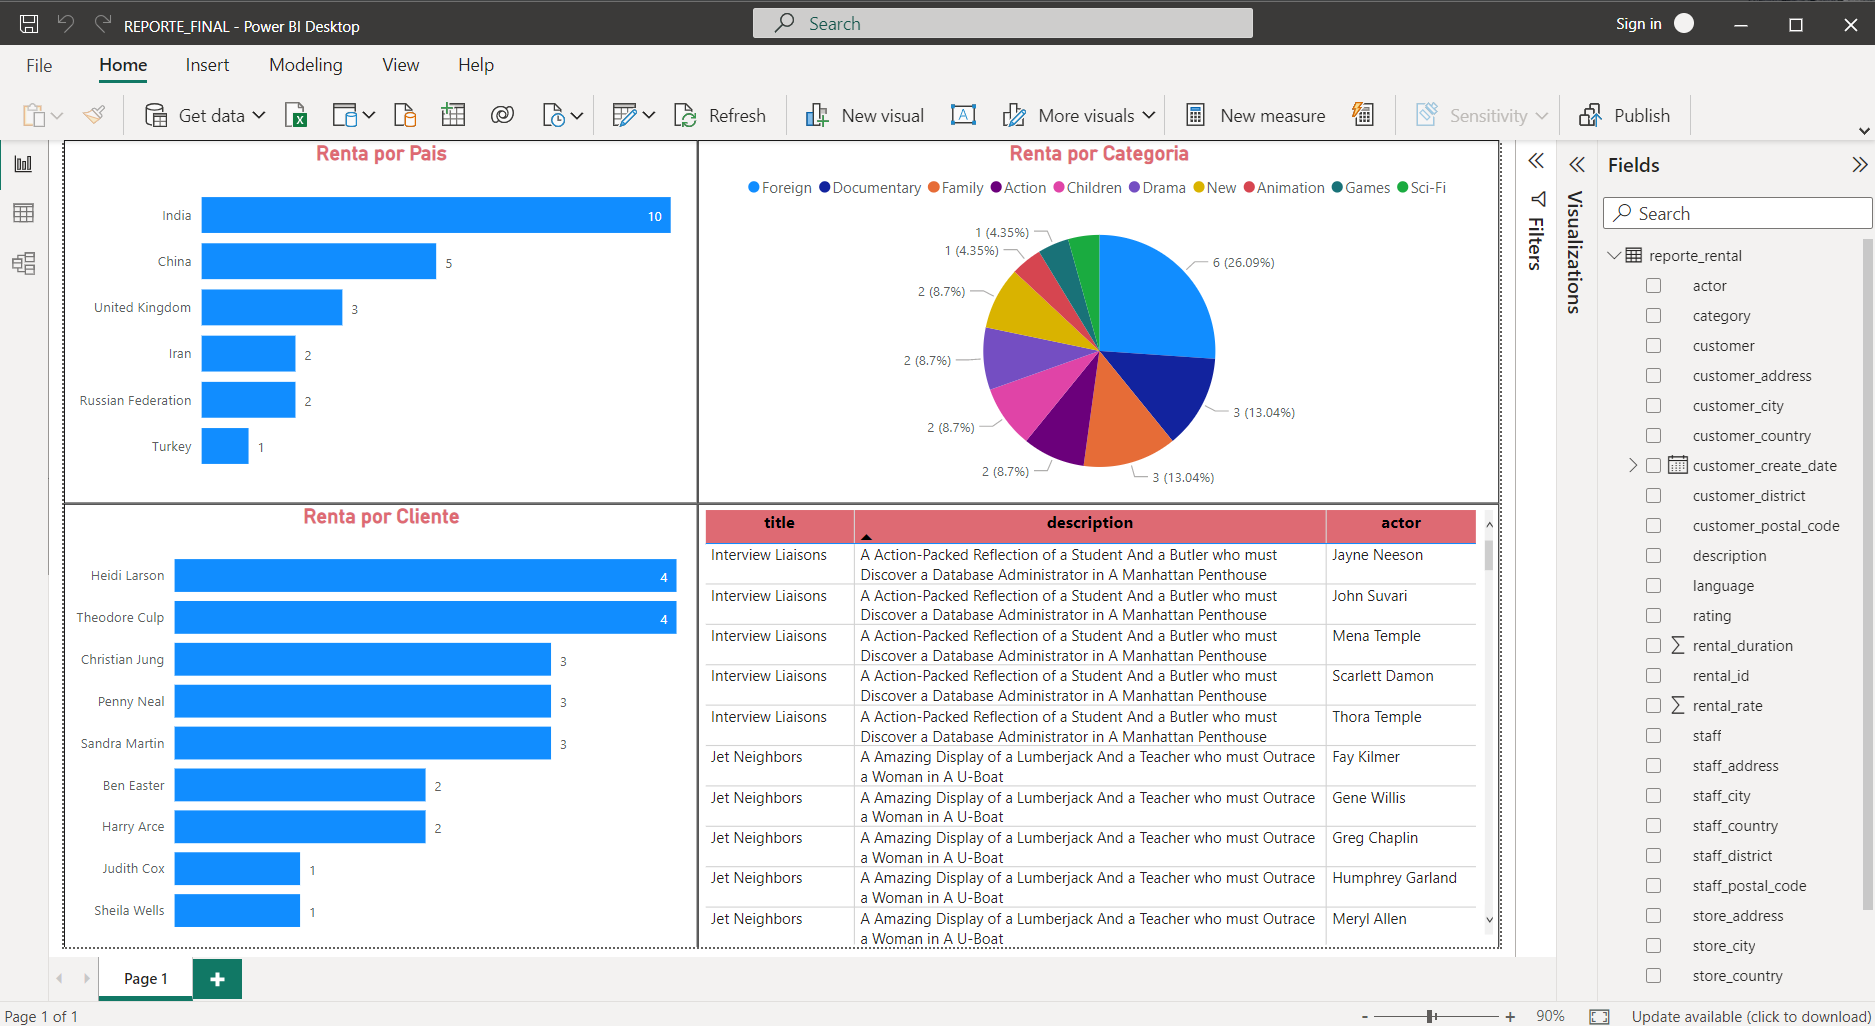

This screenshot's page, from the dashboard's own definition file:
{"tool":"powerbi","page":{"name":"Page 1","canvas":[1280,720],"ordinal":0},"visuals":[{"type":"pieChart","title":"Renta por Categoria","fields":{"Category":["reporte_rental.category"],"Y":["reporte_rental.rental_id"]},"box":[564.8,0,714.7,324],"z":0},{"type":"clusteredBarChart","title":"Renta por Pais","fields":{"Category":["reporte_rental.customer_country"],"Y":["reporte_rental.rental_id"]},"box":[0,0,564.8,324],"z":1000},{"type":"clusteredBarChart","title":"Renta por Cliente","fields":{"Category":["reporte_rental.customer"],"Y":["reporte_rental.title"]},"box":[0,324.1,564.5,397.1],"z":2000},{"type":"tableEx","fields":{"Values":["reporte_rental.title","reporte_rental.description","reporte_rental.actor"]},"box":[564.8,324,714.7,396.7],"z":3000}]}

Visuals, with their boxes on the page's 1280x720 design canvas (x1, y1, x2, y2). These are canvas units, not pixel positions in the 1875x1026 screenshot, which may show the page scaled, cropped or inside an application window:
"Renta por Categoria" pieChart: rect(565, 0, 1280, 324)
"Renta por Pais" clusteredBarChart: rect(0, 0, 565, 324)
"Renta por Cliente" clusteredBarChart: rect(0, 324, 564, 721)
tableEx - reporte_rental.title x reporte_rental.description: rect(565, 324, 1280, 721)
